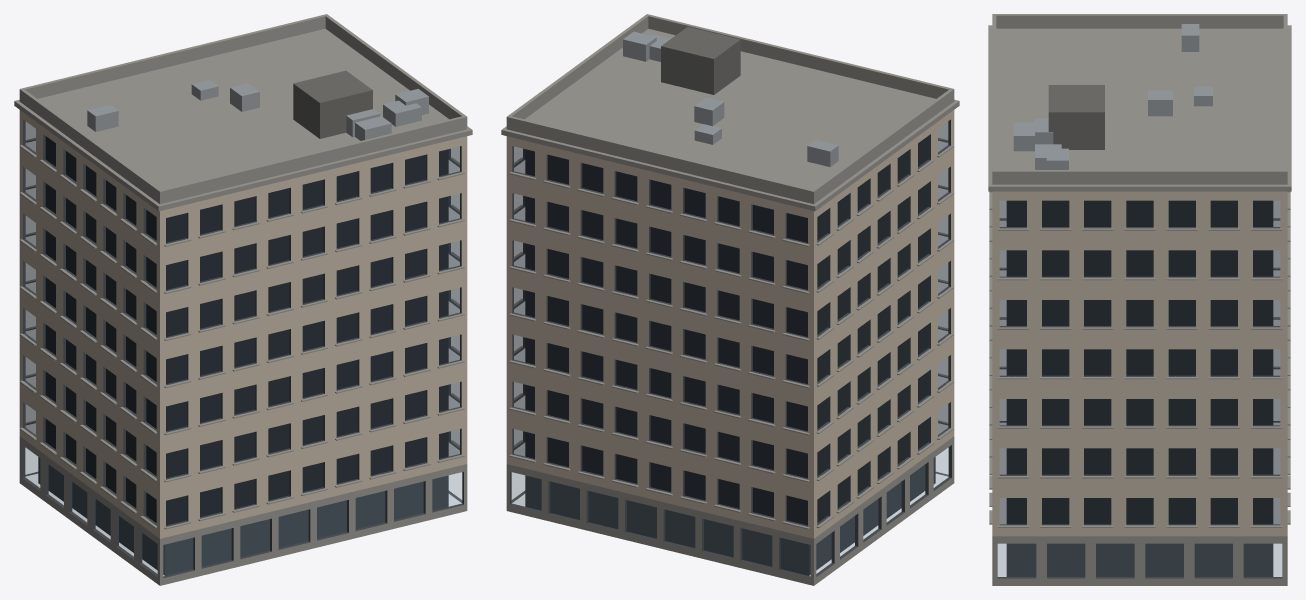
Rendered from office-1.glb.
The picture shows the model from 3 angles, left to right: view 1: azimuth 30°, elevation 25°; view 2: azimuth 150°, elevation 25°; view 3: azimuth 270°, elevation 25°; orthographic projection. The views are drawn at different scales.
Parts seen in each view (by area): view 1: office-1; view 2: office-1; view 3: office-1.
Part boxes in pixels (x1=…): office-1: x1=14, y1=14, x2=472, y2=585; office-1: x1=501, y1=14, x2=959, y2=585; office-1: x1=988, y1=14, x2=1291, y2=585.
Size of the model in its own units: 23.72 by 30.15 by 18.89.
